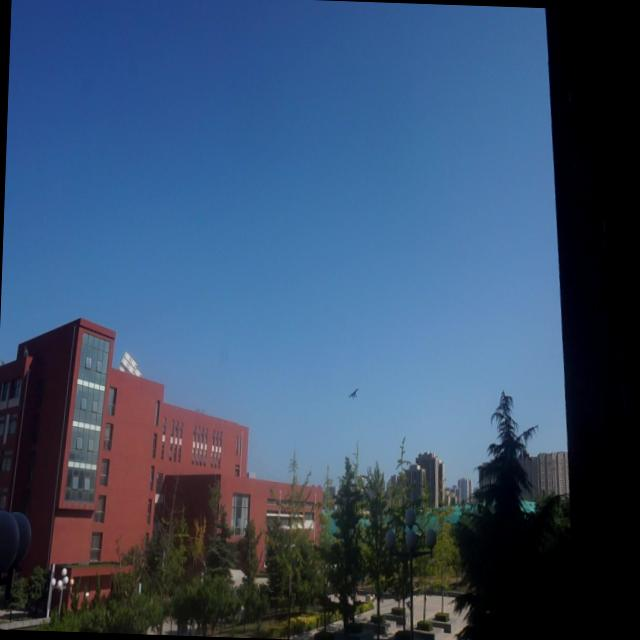drone: (346, 383, 362, 402)
